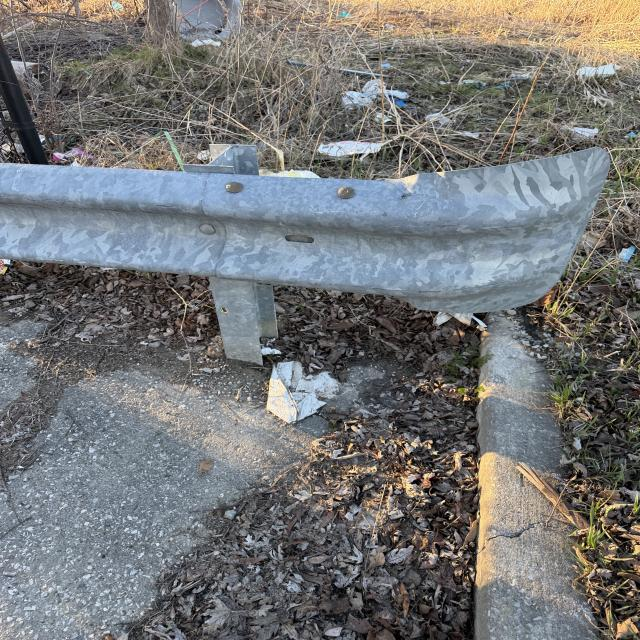Guard rail: (12, 157, 591, 306)
